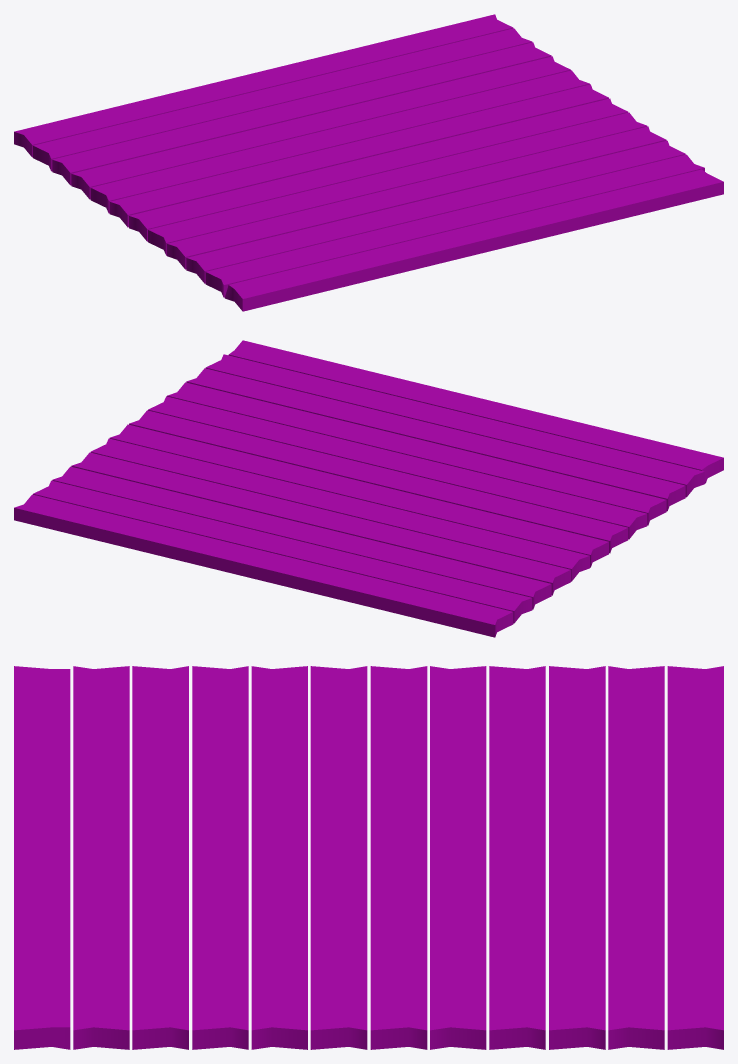
Rendered from Boards_Wood.fbx.
The picture shows the model from 3 angles, top to bottom: view 1: azimuth 30°, elevation 25°; view 2: azimuth 150°, elevation 25°; view 3: azimuth 270°, elevation 25°; orthographic projection. The views are drawn at different scales.
Visible parts, largest first — view 1: Board9, Board3, Board8, Board, Board5, Board2, Board10, Board7, Board11, Board6, Board4, Board1; view 2: Board6, Board4, Board2, Board10, Board11, Board1, Board5, Board8, Board, Board7, Board3, Board9; view 3: Board3, Board4, Board6, Board, Board1, Board2, Board8, Board10, Board5, Board7, Board11, Board9.
Part boxes in pixels (bbox=[...]): Board9: bbox=[225, 169, 723, 311]; Board3: bbox=[109, 84, 608, 227]; Board8: bbox=[167, 126, 666, 269]; Board: bbox=[52, 42, 551, 185]; Board5: bbox=[205, 154, 704, 297]; Board2: bbox=[186, 140, 685, 283]; Board10: bbox=[71, 56, 570, 199]; Board7: bbox=[90, 70, 589, 213]; Board11: bbox=[33, 28, 532, 171]; Board6: bbox=[14, 14, 513, 157]; Board4: bbox=[129, 98, 628, 241]; Board1: bbox=[148, 112, 647, 255]; Board6: bbox=[14, 494, 513, 637]; Board4: bbox=[129, 410, 628, 553]; Board2: bbox=[186, 368, 685, 511]; Board10: bbox=[71, 452, 570, 595]; Board11: bbox=[33, 480, 532, 623]; Board1: bbox=[148, 396, 647, 539]; Board5: bbox=[205, 354, 704, 497]; Board8: bbox=[167, 382, 666, 525]; Board: bbox=[52, 466, 551, 609]; Board7: bbox=[90, 438, 589, 581]; Board3: bbox=[109, 424, 608, 567]; Board9: bbox=[228, 340, 723, 483]; Board3: bbox=[370, 666, 427, 1049]; Board4: bbox=[310, 666, 367, 1049]; Board6: bbox=[667, 666, 723, 1049]; Board: bbox=[549, 666, 605, 1049]; Board1: bbox=[251, 666, 307, 1049]; Board2: bbox=[132, 666, 188, 1049]; Board8: bbox=[192, 666, 248, 1049]; Board10: bbox=[489, 666, 545, 1049]; Board5: bbox=[73, 666, 129, 1049]; Board7: bbox=[430, 666, 486, 1049]; Board11: bbox=[608, 666, 664, 1049]; Board9: bbox=[14, 666, 70, 1049].
Bounding box in the file's own units: 7.69 × 0.1921 × 6.33.
